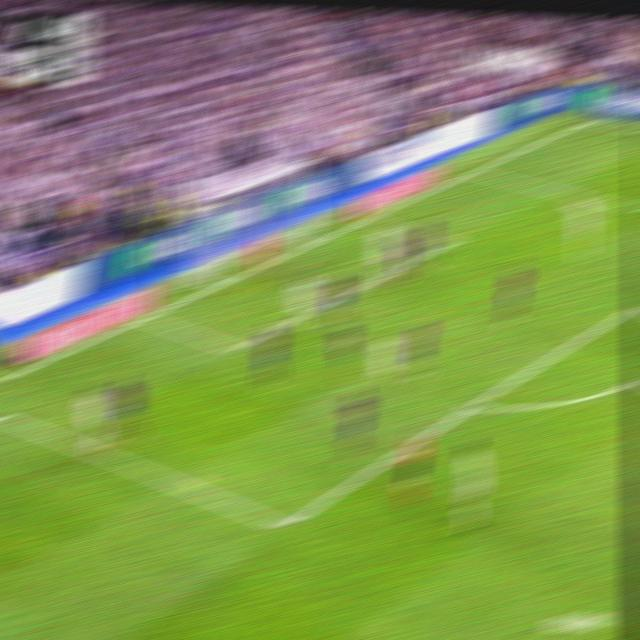bigarea_bottom_inner: (271, 509, 298, 543)
bigarea_top_outter: (466, 163, 485, 178)
bottom_arc_area_intersection: (462, 394, 485, 416)
corner: (577, 114, 598, 127)
smallarea_bottom_inner: (226, 338, 246, 360)
smallarea_bottom_outter: (136, 311, 155, 325)
smallarea_top_inner: (440, 233, 460, 250)
